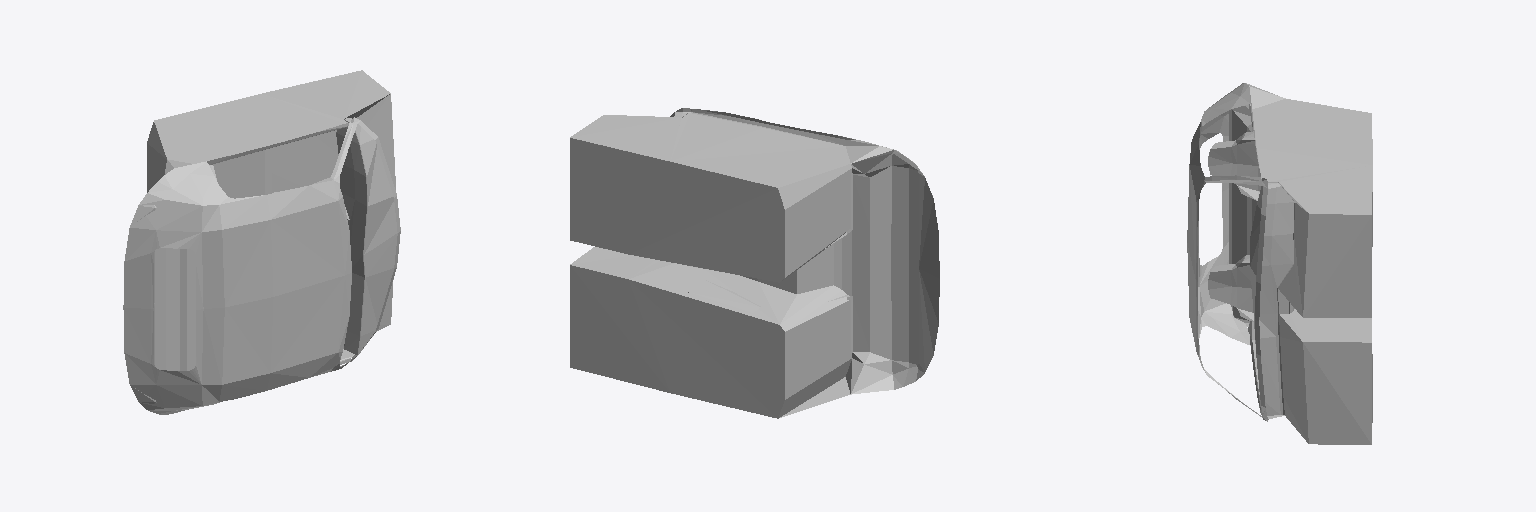
File: interior.obj
3 renders of one model, left to right at view 1: azimuth 30°, elevation 25°; view 2: azimuth 150°, elevation 25°; view 3: azimuth 270°, elevation 25°, orthographic.
Parts seen in each view (by area): view 1: default; view 2: default; view 3: default.
Part boxes in pixels (bbox=[...]): default: bbox=[123, 70, 400, 414]; default: bbox=[570, 108, 939, 418]; default: bbox=[1187, 83, 1372, 444].
Size of the model in its own units: 1.92 by 1.47 by 1.01.